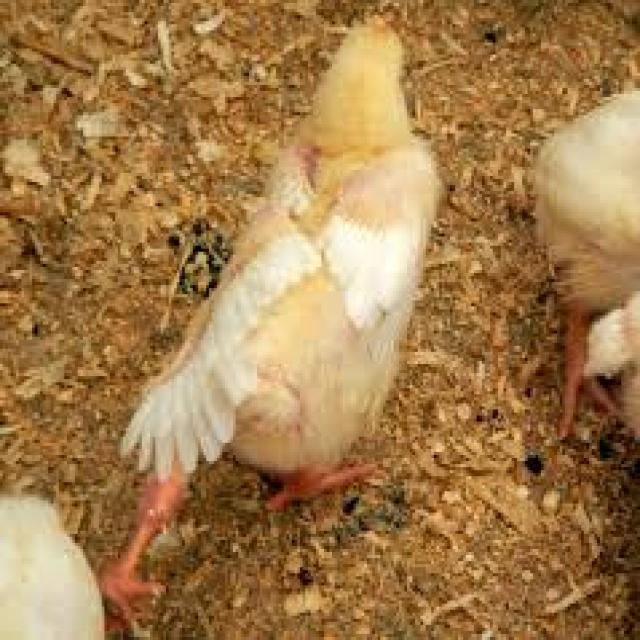leg stretching: (86, 13, 466, 596)
